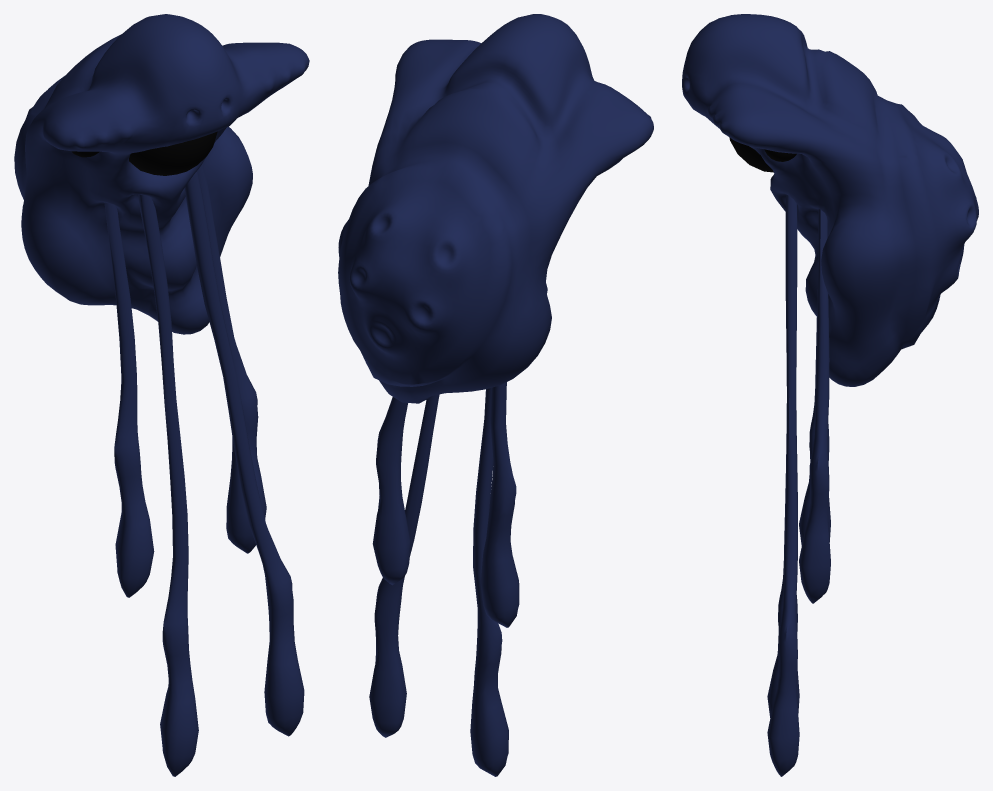
File: Alien_Paciforix.obj
3 renders of one model, left to right at view 1: azimuth 30°, elevation 25°; view 2: azimuth 150°, elevation 25°; view 3: azimuth 270°, elevation 25°, orthographic. The views are drawn at different scales.
Visible parts, largest first — view 1: Alien_Paciforix_Body, Alien_Paciforix; view 2: Alien_Paciforix_Body, Alien_Paciforix; view 3: Alien_Paciforix_Body, Alien_Paciforix.
Boxes of the visible parts, x1=… form: Alien_Paciforix_Body: x1=14, y1=14, x2=309, y2=334; Alien_Paciforix: x1=104, y1=163, x2=304, y2=776; Alien_Paciforix_Body: x1=338, y1=14, x2=653, y2=403; Alien_Paciforix: x1=369, y1=382, x2=519, y2=776; Alien_Paciforix_Body: x1=682, y1=14, x2=978, y2=386; Alien_Paciforix: x1=767, y1=194, x2=830, y2=776.
Bounding box in the file's own units: 1.49 × 4.11 × 1.56.
